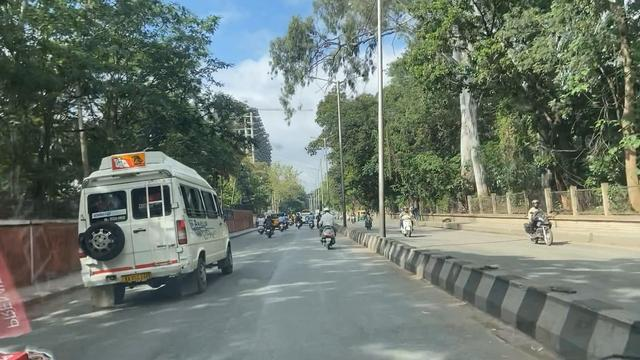HMV: (80, 173, 189, 292)
LMV: (320, 208, 334, 249), (264, 205, 276, 242)
